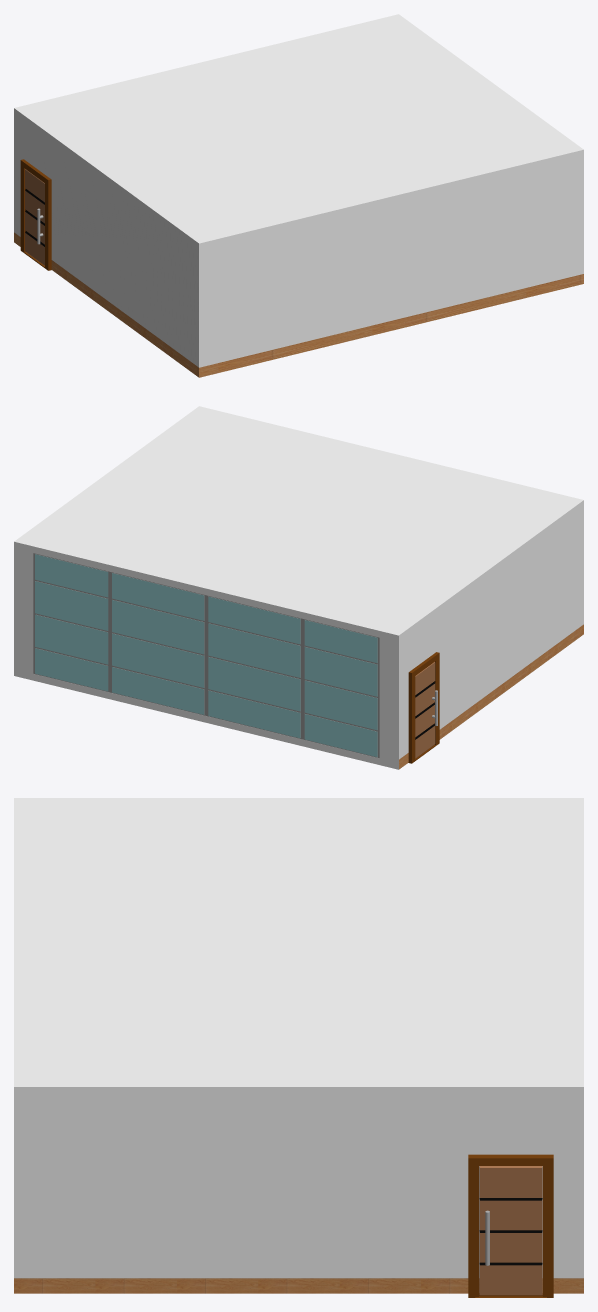
The model's file is ruangan tes.fbx.
3 views of the same model, one above another, from view 1: azimuth 30°, elevation 25°; view 2: azimuth 150°, elevation 25°; view 3: azimuth 270°, elevation 25° (orthographic). The views are drawn at different scales.
Parts seen in each view (by area): view 1: kantor, Cube.002; view 2: kantor, Cube.002; view 3: kantor, Cube.003.
Part boxes in pixels (x1,y1,x2,y2): kantor: (14,14,583,377); Cube.002: (20,159,51,270); kantor: (14,406,583,769); Cube.002: (408,652,439,763); kantor: (14,798,583,1293); Cube.003: (468,1154,553,1297).
Bounding box in the file's own units: 1255 × 401 × 1000.
8 materials, 1 textured.
